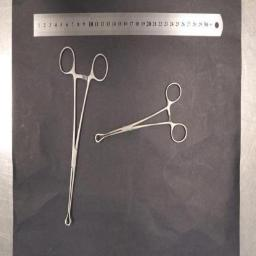Babcock Tissue Forceps: (95, 83, 187, 145)
